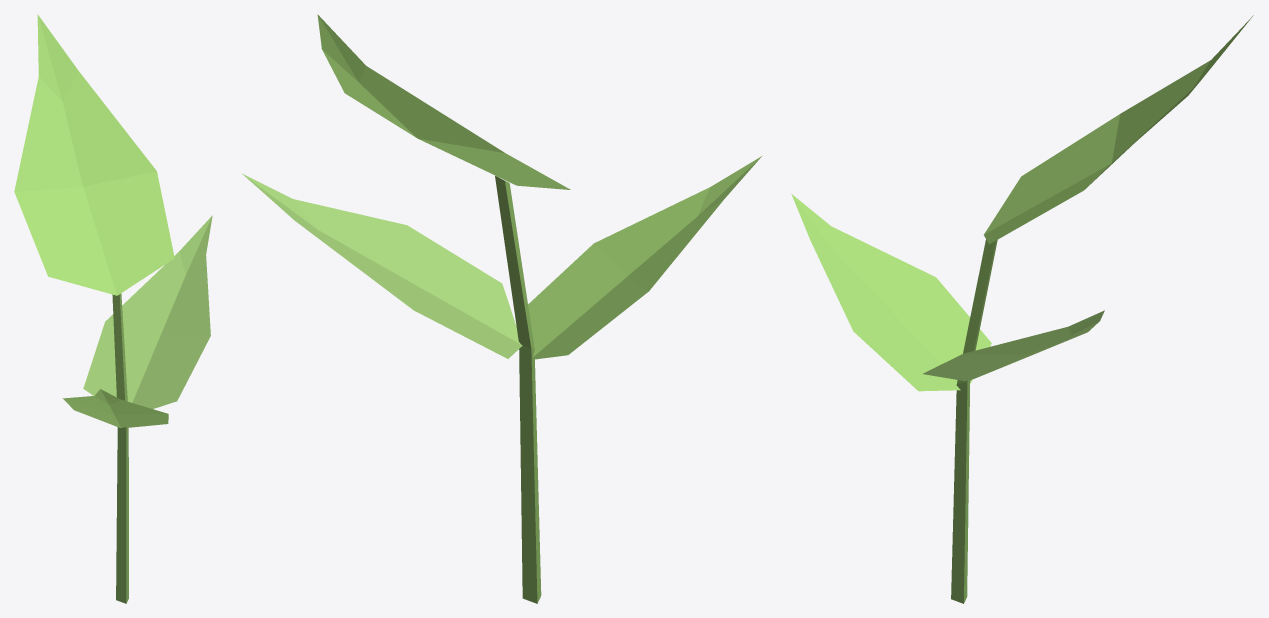
Rendered from Plant_f_OneS_03.fbx.
3 views of the same model, side by side, from view 1: azimuth 30°, elevation 25°; view 2: azimuth 150°, elevation 25°; view 3: azimuth 270°, elevation 25° (orthographic). The views are drawn at different scales.
Parts seen in each view (by area): view 1: Plant_f_OneS_03; view 2: Plant_f_OneS_03; view 3: Plant_f_OneS_03.
Part boxes in pixels (left/top/right/bottom): Plant_f_OneS_03: left=14, top=14, right=212, bottom=603; Plant_f_OneS_03: left=242, top=14, right=761, bottom=603; Plant_f_OneS_03: left=791, top=15, right=1253, bottom=603.
Bounding box in the file's own units: 0.2773 × 0.5431 × 0.3766.
